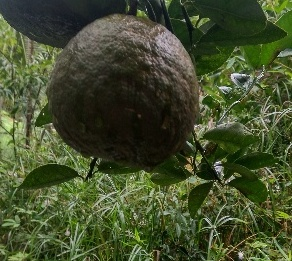Cam: (47, 12, 201, 169)
